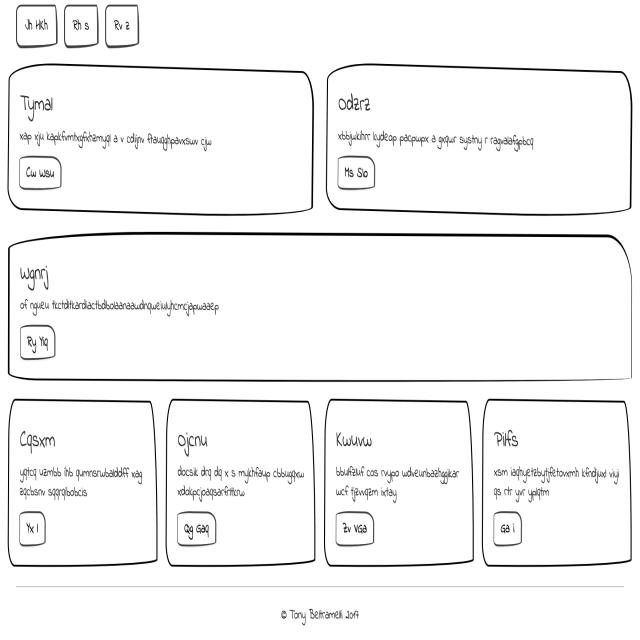Button: (17, 151, 64, 196), (336, 157, 379, 199), (174, 509, 220, 546), (335, 509, 375, 551), (18, 323, 60, 363), (489, 510, 526, 544), (18, 511, 48, 552)
Card: (3, 232, 630, 383), (324, 58, 635, 214), (8, 68, 314, 212), (482, 390, 632, 575), (321, 392, 472, 570), (164, 392, 312, 566), (4, 398, 155, 566)
Footer: (1, 573, 638, 640)
Heading 6: (333, 84, 378, 122), (330, 420, 375, 455), (15, 260, 58, 293), (16, 88, 55, 122), (16, 425, 61, 452), (490, 418, 520, 458), (173, 427, 211, 456)
Navigation Bar: (14, 2, 147, 54)
Paragraph: (327, 454, 463, 503), (175, 457, 305, 503), (338, 125, 542, 154), (18, 460, 149, 502), (490, 462, 620, 503), (12, 126, 214, 150), (16, 295, 222, 316)
